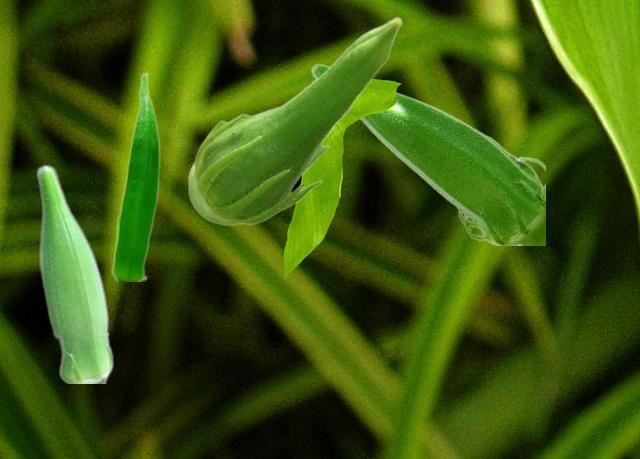okra: (187, 16, 402, 225), (310, 63, 544, 244), (35, 164, 112, 382), (111, 71, 160, 280)
